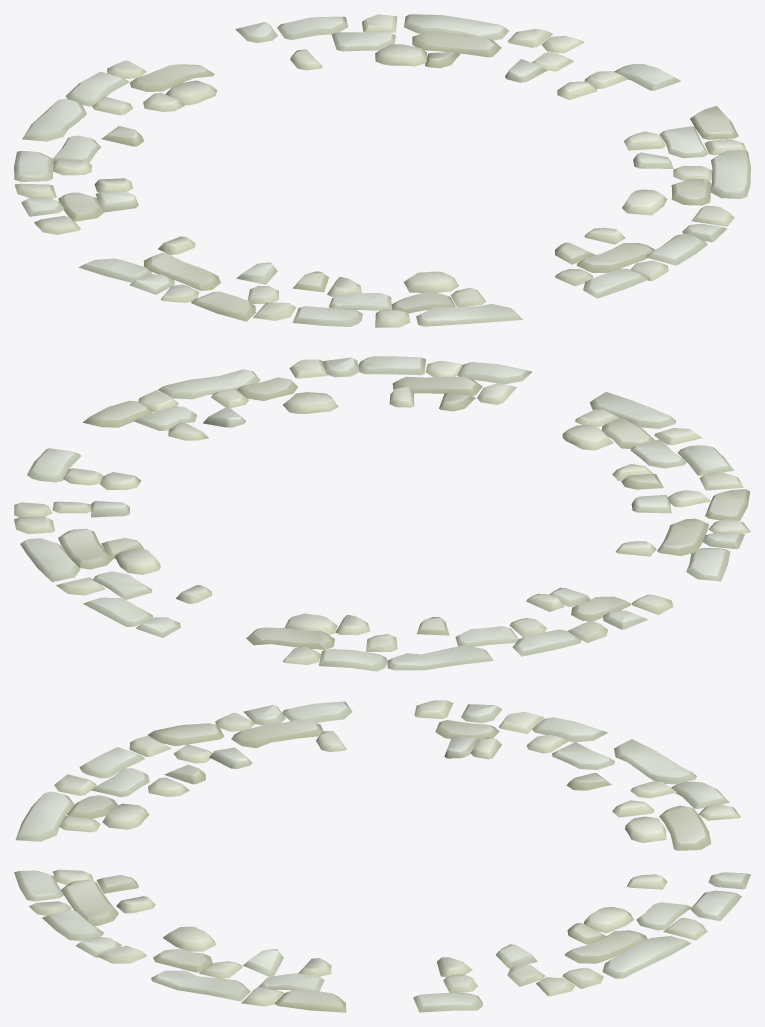
The model's file is SM_Stone_Tiles_01.fbx.
The picture shows the model from 3 angles, top to bottom: view 1: azimuth 30°, elevation 25°; view 2: azimuth 150°, elevation 25°; view 3: azimuth 270°, elevation 25°; orthographic projection.
Visible parts, largest first — view 1: SM_Stone_Tiles_01; view 2: SM_Stone_Tiles_01; view 3: SM_Stone_Tiles_01.
Part boxes in pixels (bbox=[...]): SM_Stone_Tiles_01: bbox=[14, 14, 750, 327]; SM_Stone_Tiles_01: bbox=[14, 356, 750, 671]; SM_Stone_Tiles_01: bbox=[14, 700, 750, 1012].
Bounding box in the file's own units: 2483 × 50.77 × 2462.
